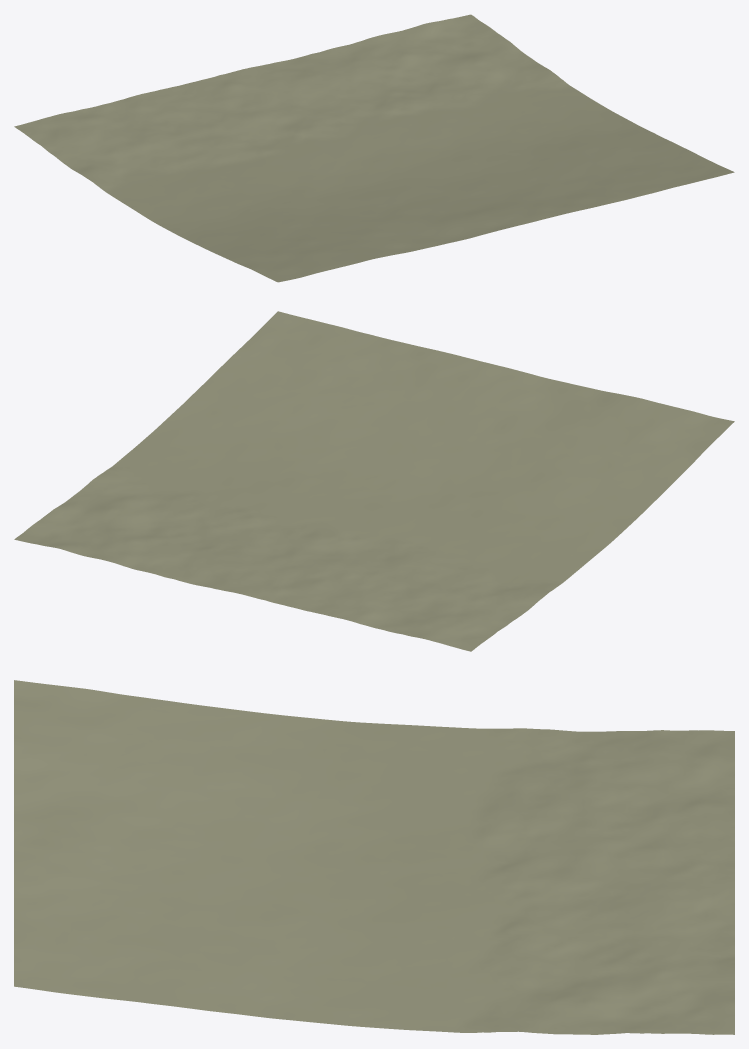
The model's file is SM_VB_Terrain_0_2.fbx.
The picture shows the model from 3 angles, top to bottom: view 1: azimuth 30°, elevation 25°; view 2: azimuth 150°, elevation 25°; view 3: azimuth 270°, elevation 25°; orthographic projection. The views are drawn at different scales.
Parts seen in each view (by area): view 1: SM_VB_Terrain_0_2; view 2: SM_VB_Terrain_0_2; view 3: SM_VB_Terrain_0_2.
Boxes of the visible parts, left/top/right/bottom form: SM_VB_Terrain_0_2: left=14, top=14, right=734, bottom=282; SM_VB_Terrain_0_2: left=14, top=311, right=734, bottom=651; SM_VB_Terrain_0_2: left=14, top=680, right=734, bottom=1034.
Bounding box in the file's own units: 400 × 31.68 × 400.
